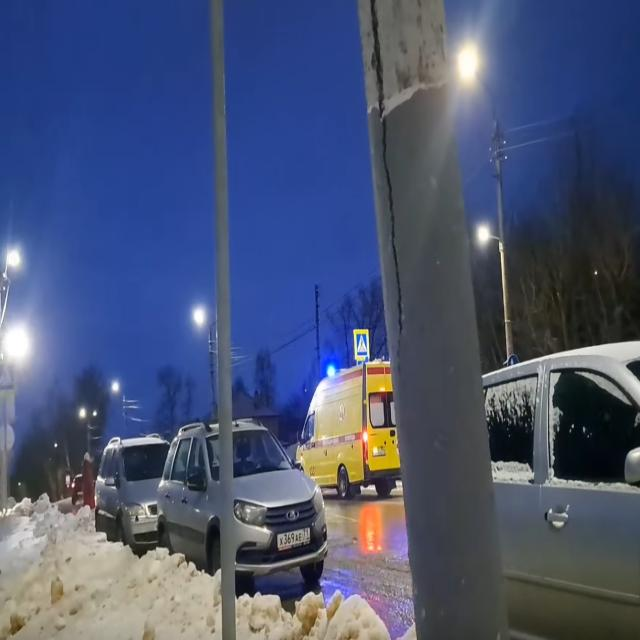intensive care unit: (297, 362, 403, 501)
non emergency car: (483, 339, 640, 640), (157, 417, 328, 599), (94, 436, 171, 553)
